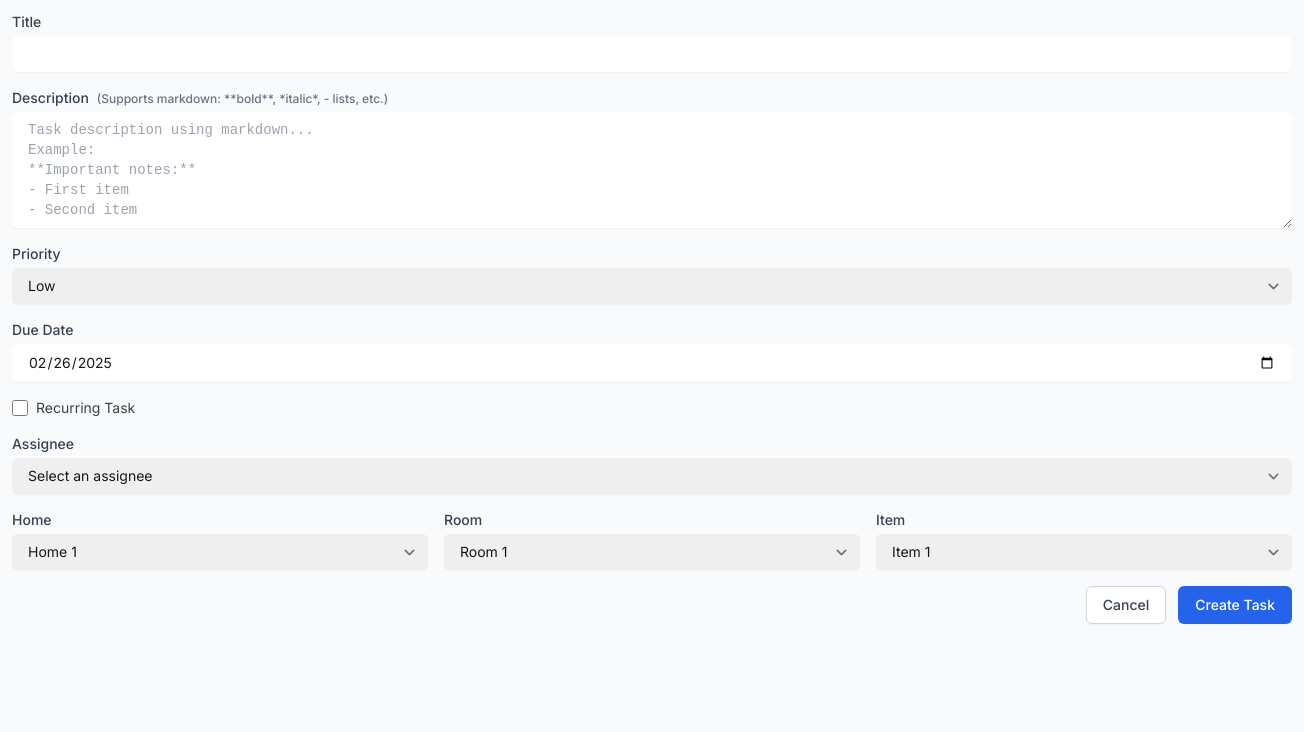
Test: TaskForm › should clear dependent fields when parent selection changes
This screenshot has width=1304, height=732.
Check: the dropdown labelled "Room" shows "Room 1", box [444,534,860,570]
Check: the dropdown labelled "Item" shows "Item 1", box [876,534,1292,570]
# Change home selection
Select "Home 2" in the dropdown labelled "Home": [220, 552] box [12,534,428,570]
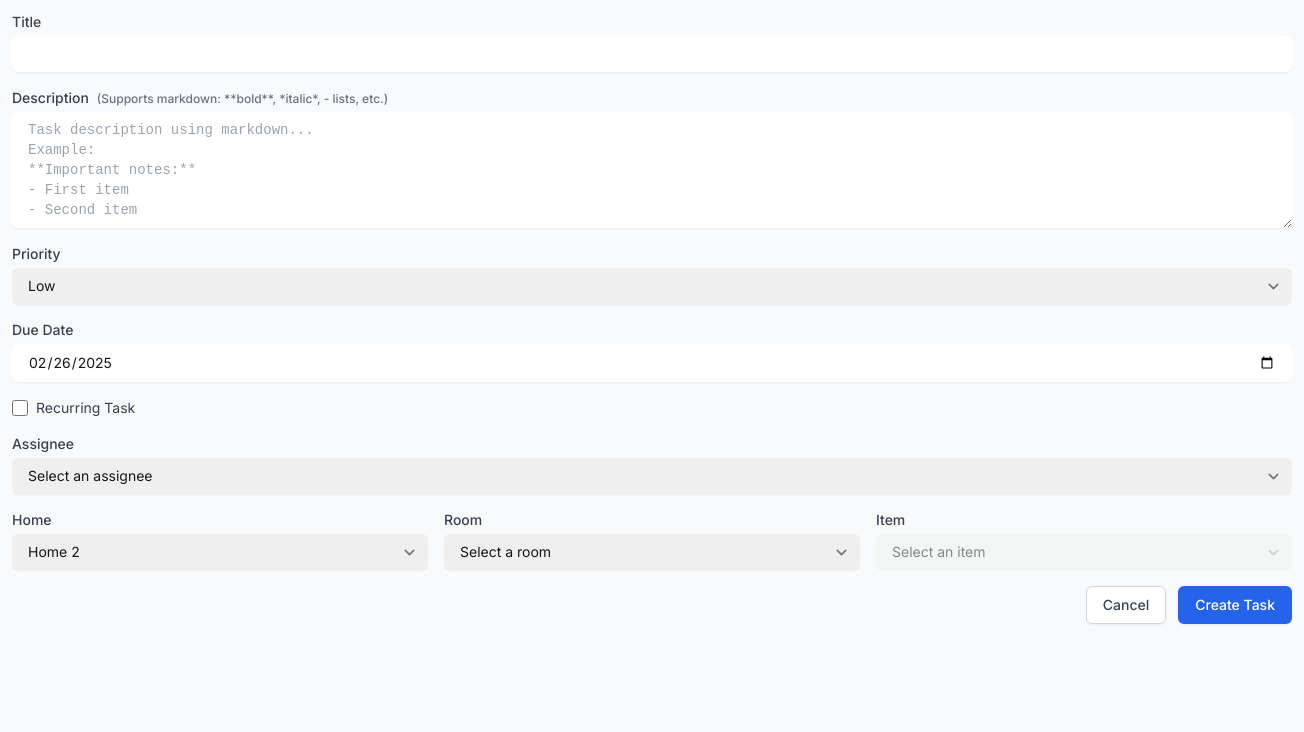
Check: the dropdown labelled "Room" shows "Select a room", box [444,534,860,570]
Check: the dropdown labelled "Item" shows "Select an item", box [876,534,1292,570]
